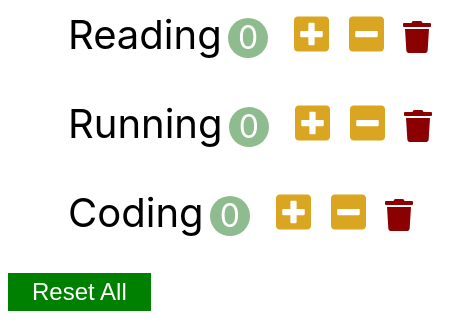
Habit Tracker › deletes an item
The image size is (454, 328).
Click the button titled "delete" in the row of "Reading": (417, 39) [397,19,437,58]
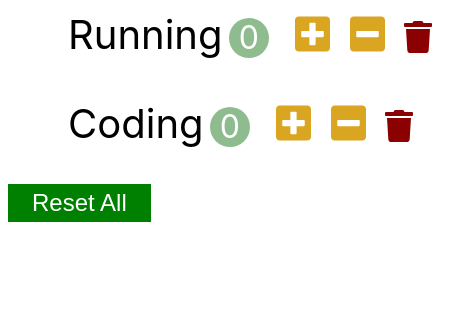
Expected: the text "Reading" is gone
